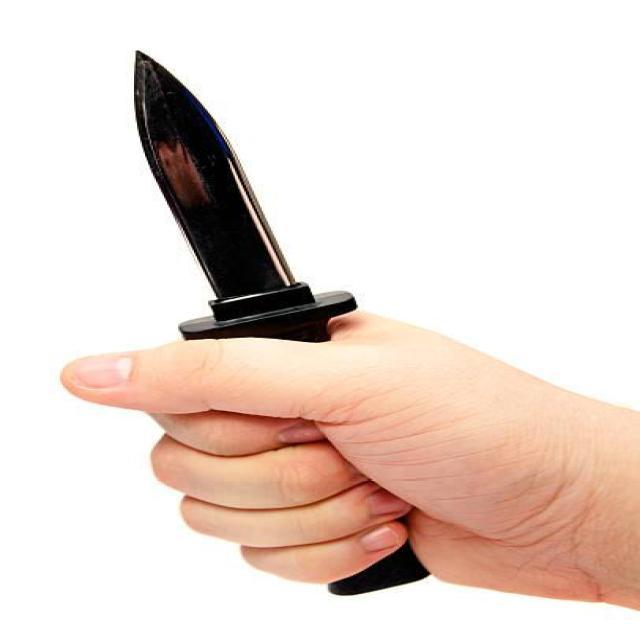faca: (49, 31, 616, 606)
